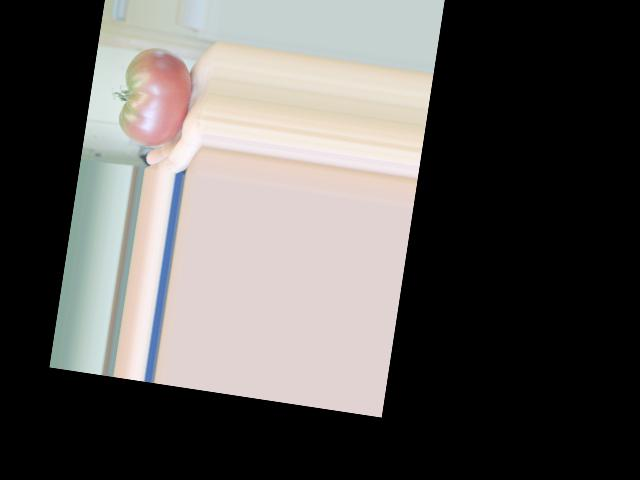tomato: (115, 43, 197, 151)
